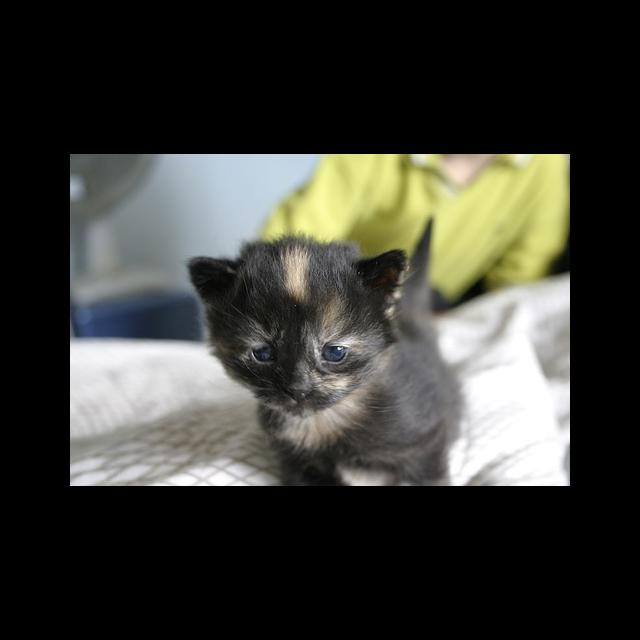animals: (190, 250, 403, 398)
